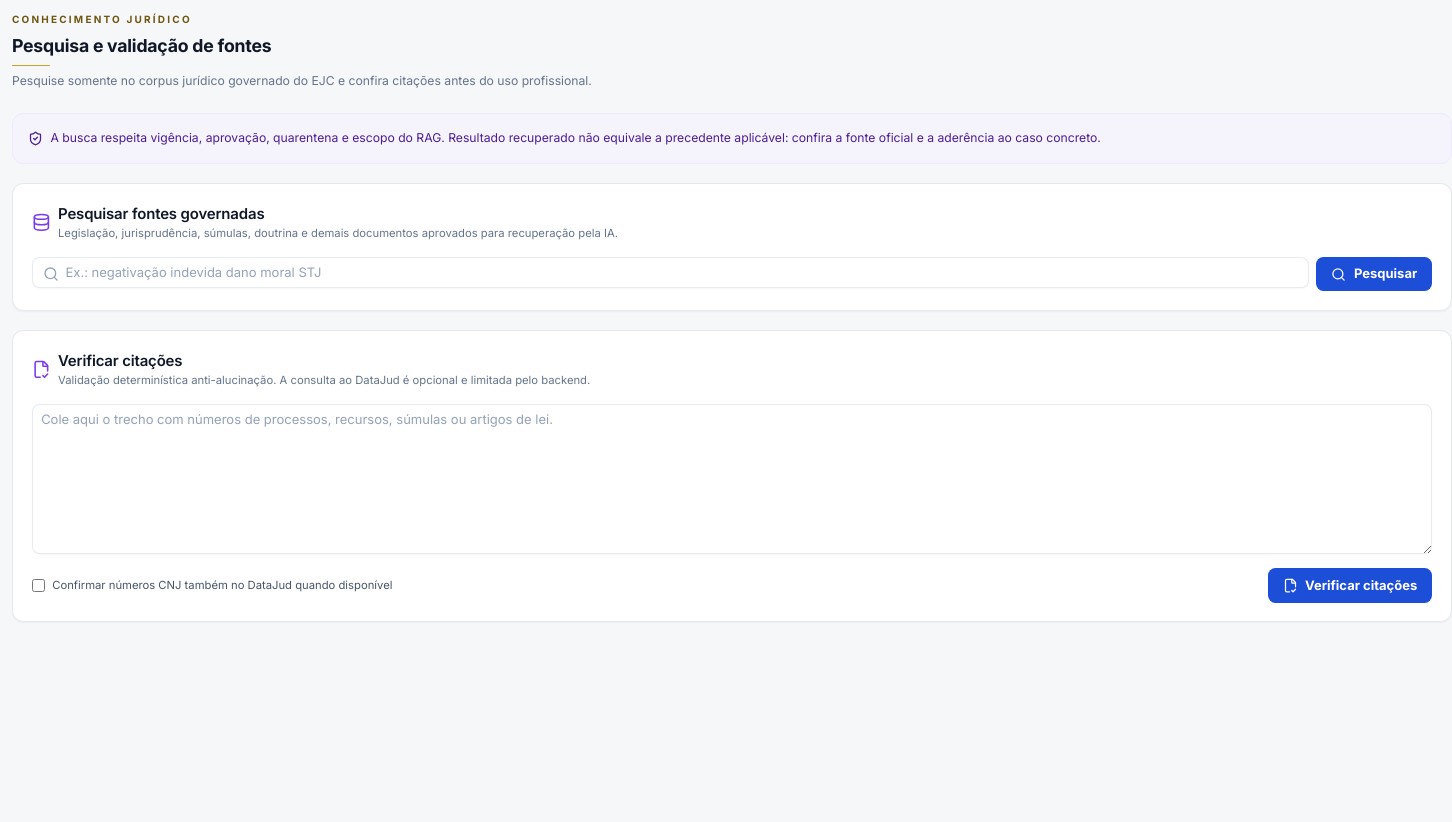
PesquisaJuridica — P0 Inteligência Jurídica › pesquisa no corpus governado e mostra a fonte recuperada
Type "dano moral" into the field named "Consulta jurídica". click: (670, 272)
box: top-left (32, 257), bottom-right (1309, 288)
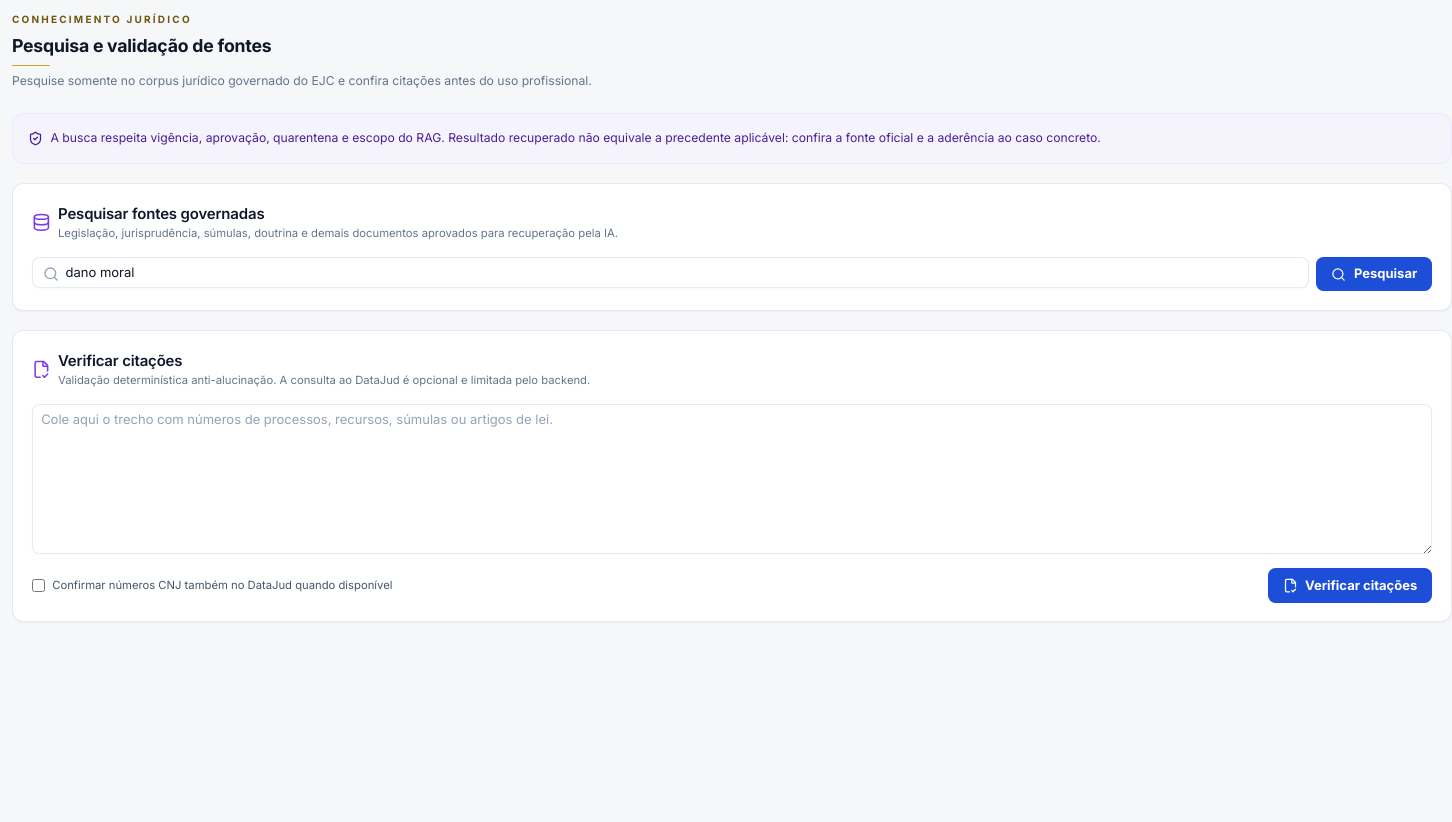
Click the button "Pesquisar". click: (1374, 274)
box: top-left (1316, 257), bottom-right (1432, 291)
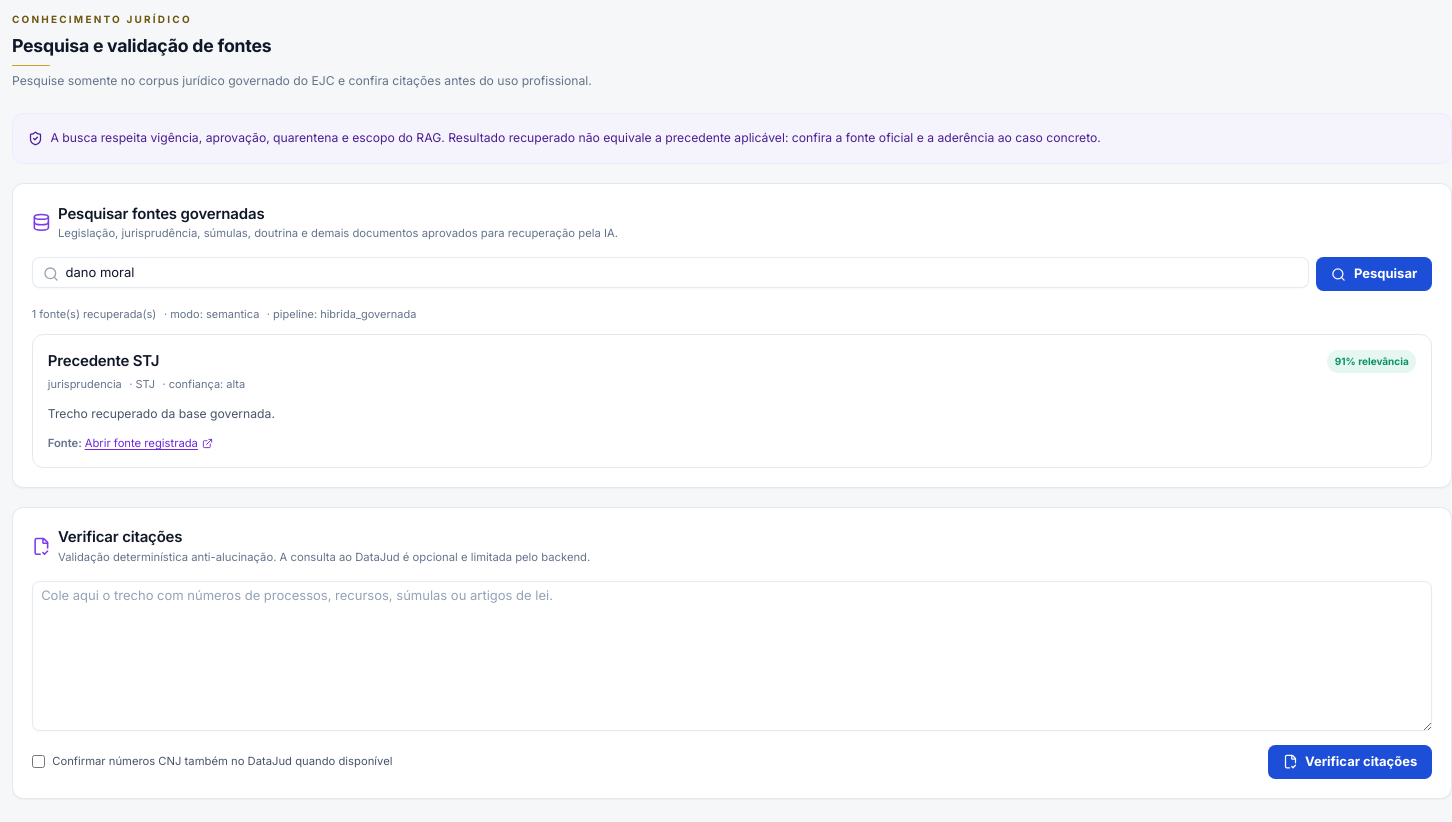
Expected: the heading "Precedente STJ" is shown, top-left (48, 351), bottom-right (159, 370)
Expected: the text "Trecho recuperado da base governada." is shown, top-left (48, 406), bottom-right (275, 421)
Expected: the text "91% relevância" is shown, top-left (1327, 350), bottom-right (1416, 373)
